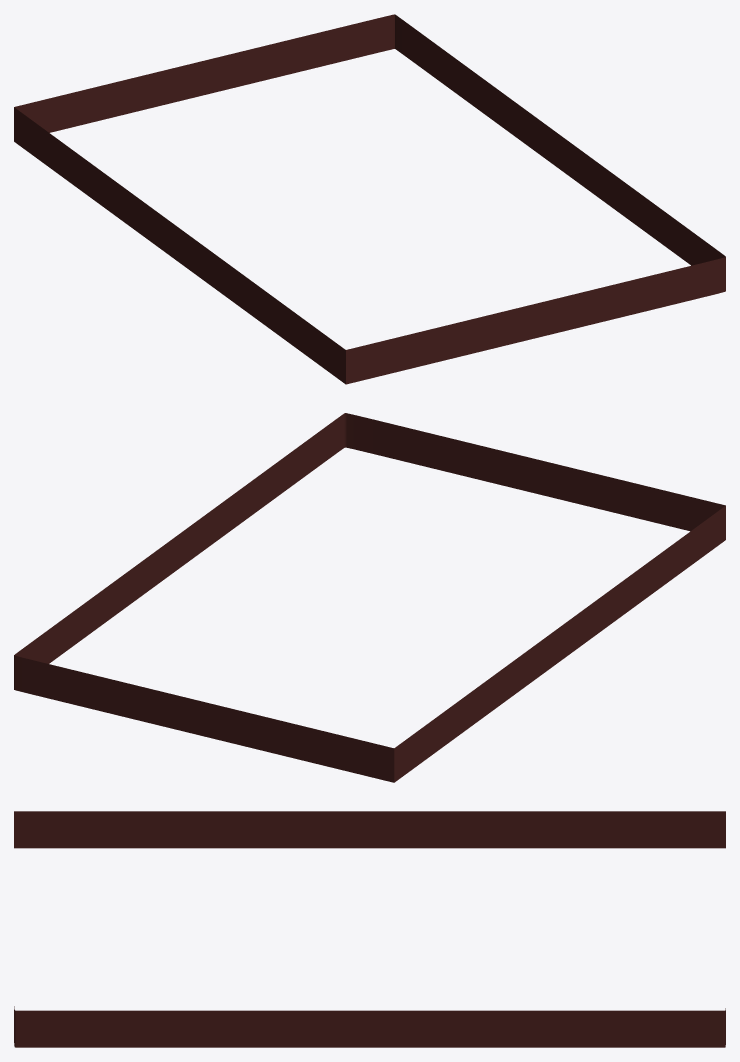
The model's file is object_89_lev1.glb.
3 views of the same model, one above another, from view 1: azimuth 30°, elevation 25°; view 2: azimuth 150°, elevation 25°; view 3: azimuth 270°, elevation 25° (orthographic). The views are drawn at different scales.
Parts seen in each view (by area): view 1: object_89_lev1; view 2: object_89_lev1; view 3: object_89_lev1.
Part boxes in pixels (left/top/right/bottom): object_89_lev1: left=14, top=14, right=725, bottom=384; object_89_lev1: left=14, top=413, right=725, bottom=782; object_89_lev1: left=14, top=811, right=725, bottom=1047.
Bounding box in the file's own units: 0.1513 × 0.0131 × 0.2283.
